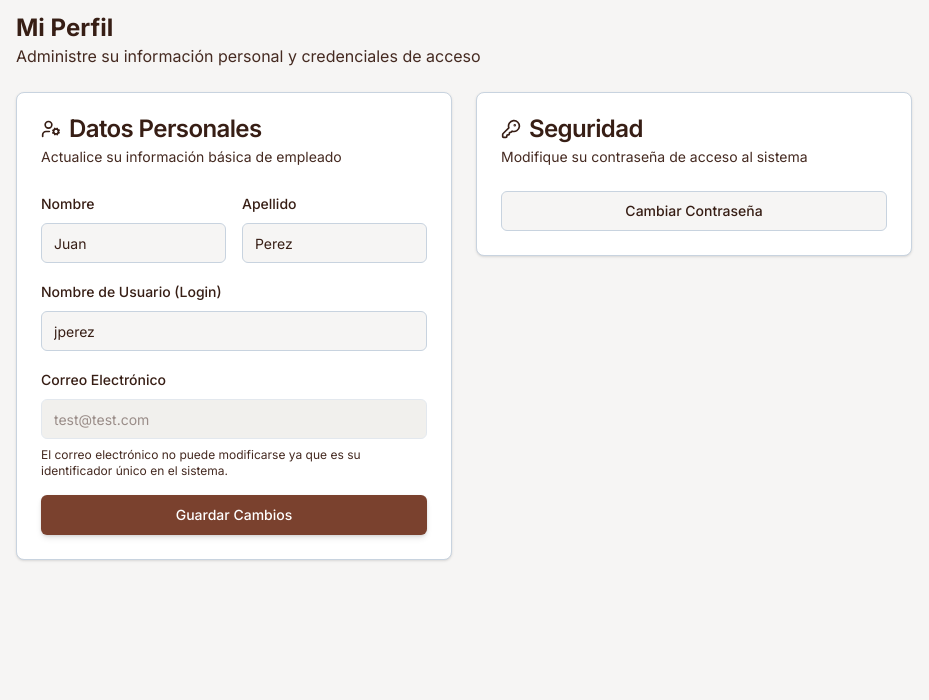
Test case: Perfil › muestra indicador de contraseñas coinciden
Step 1. Click the button "Cambiar Contraseña" → [694, 211], box [501,191,887,231]
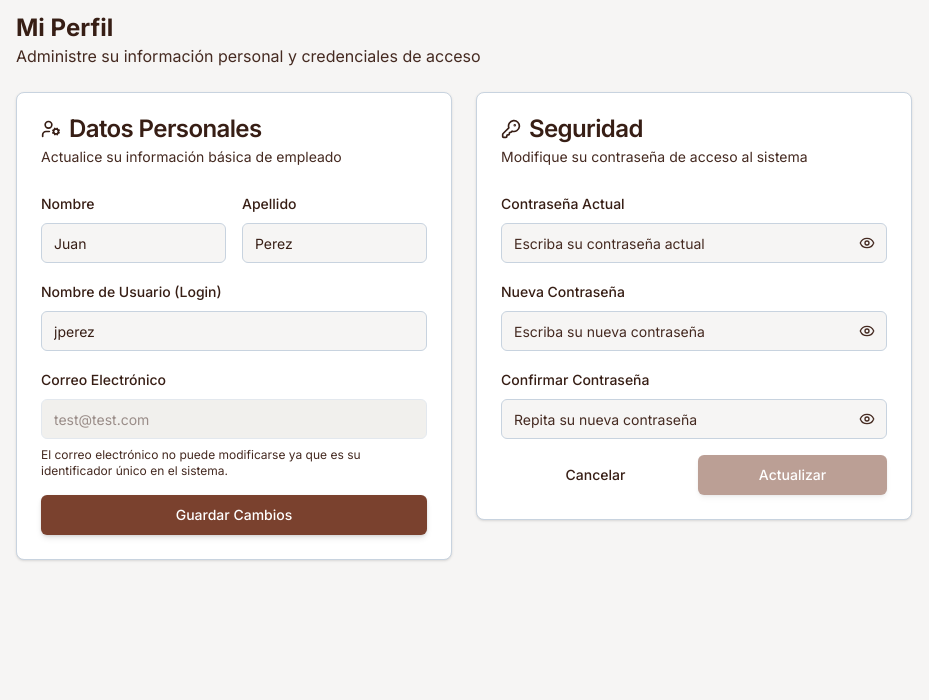
Step 2. Type "Test1234!" into the password field with placeholder "Escriba su nueva contraseña" → [694, 331], box [501,311,887,351]
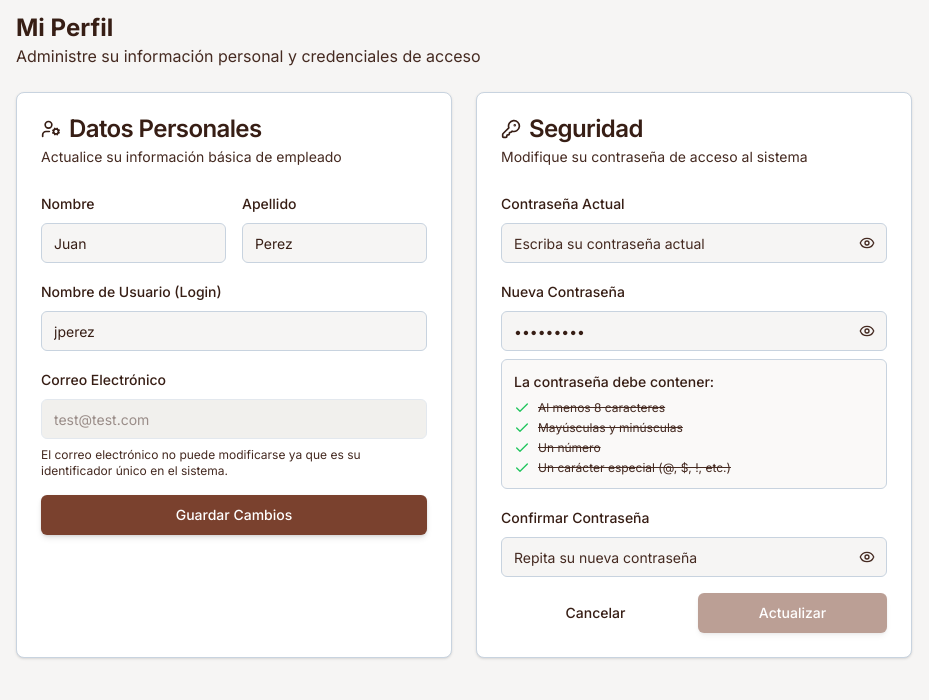
Step 3. Type "Test1234!" into the password field with placeholder "Repita su nueva contraseña" → [694, 557], box [501,537,887,577]
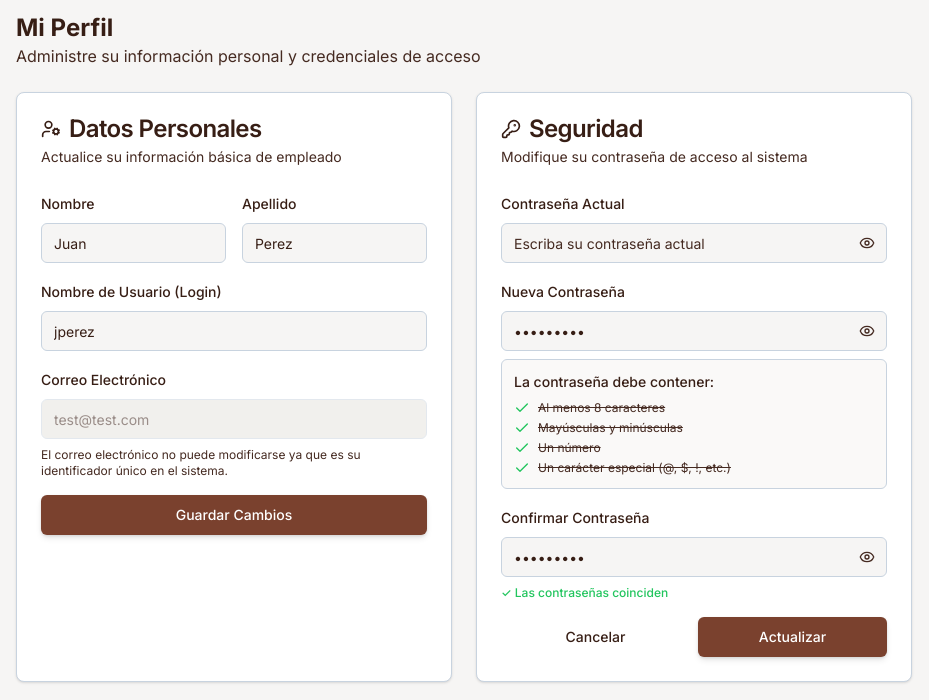
Result: the text "✓ Las contraseñas coinciden" is shown at [501,585,668,600]
